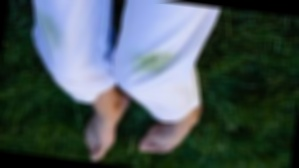earth: (140, 54, 168, 74)
